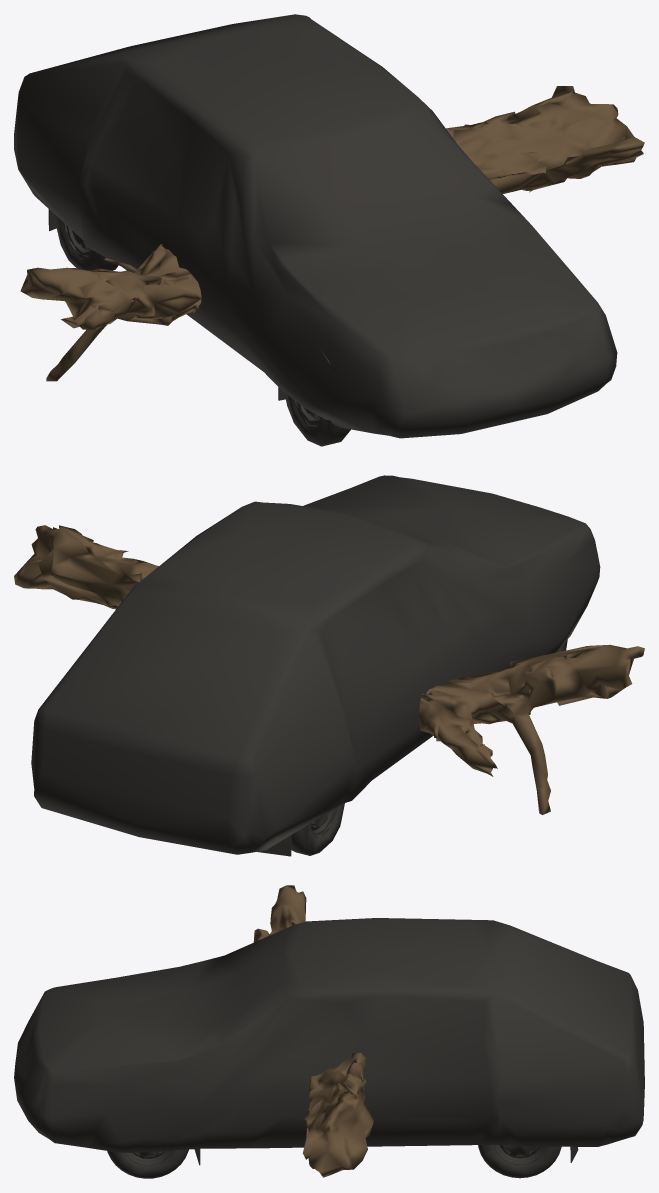
The model's file is props-desert.glb.
The picture shows the model from 3 angles, top to bottom: view 1: azimuth 30°, elevation 25°; view 2: azimuth 150°, elevation 25°; view 3: azimuth 270°, elevation 25°; orthographic projection. The views are drawn at different scales.
Parts seen in each view (by area): view 1: car-covered_LOD0, log-dead_LOD0; view 2: car-covered_LOD0, log-dead_LOD0; view 3: car-covered_LOD0, log-dead_LOD0.
Part boxes in pixels (left/top/right/bottom): car-covered_LOD0: left=14, top=14, right=617, bottom=446; log-dead_LOD0: left=20, top=86, right=644, bottom=381; car-covered_LOD0: left=31, top=475, right=600, bottom=856; log-dead_LOD0: left=14, top=525, right=644, bottom=814; car-covered_LOD0: left=14, top=918, right=644, bottom=1178; log-dead_LOD0: left=253, top=885, right=374, bottom=1177.
Size of what is drawn, in the model's own units: 4.05 by 1.41 by 4.38.
